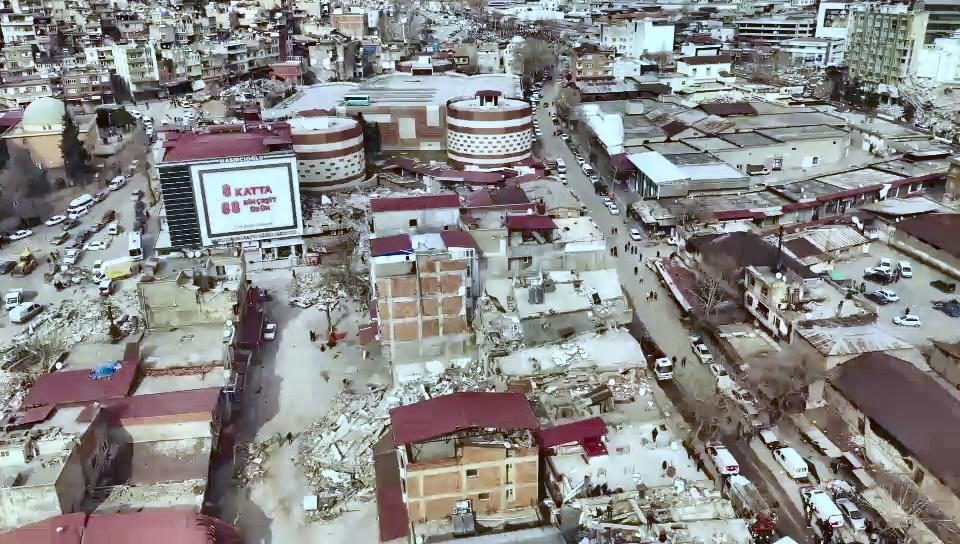kapali: (215, 359, 391, 543)
